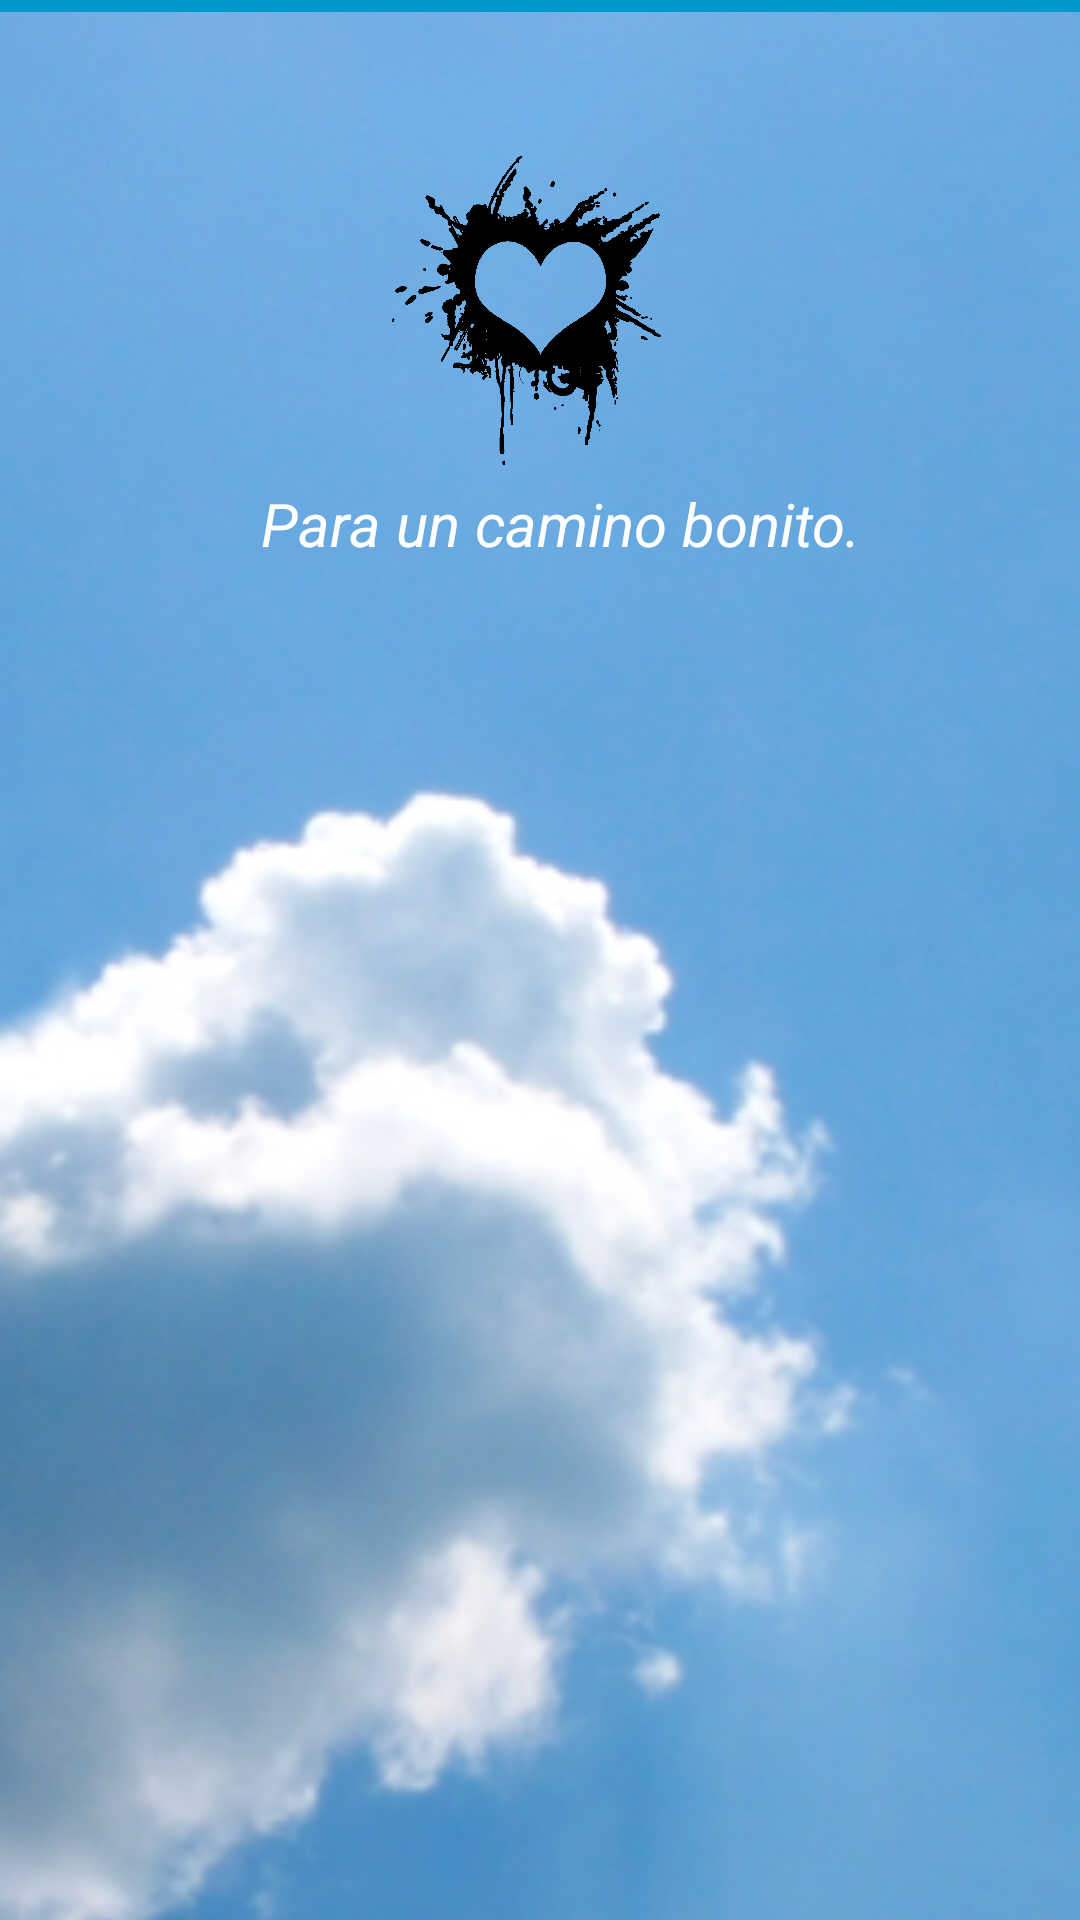

Screen size 1080*1920. Icon name, then its center in pixels as (x=x, y=y):
corazon: (x=526, y=310)
